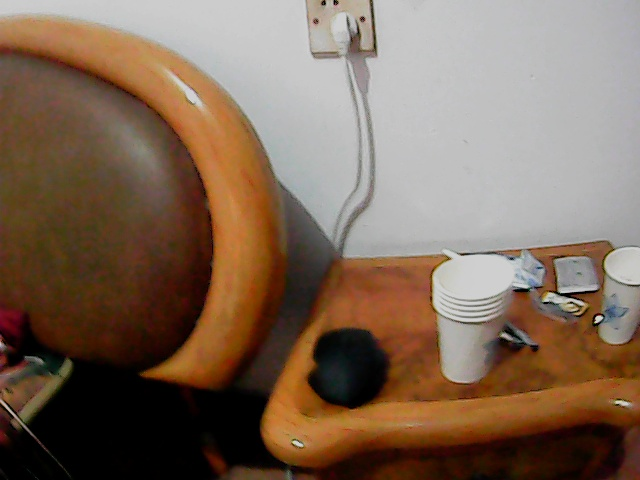cup: (426, 255, 514, 386)
mouse: (306, 322, 390, 414)
